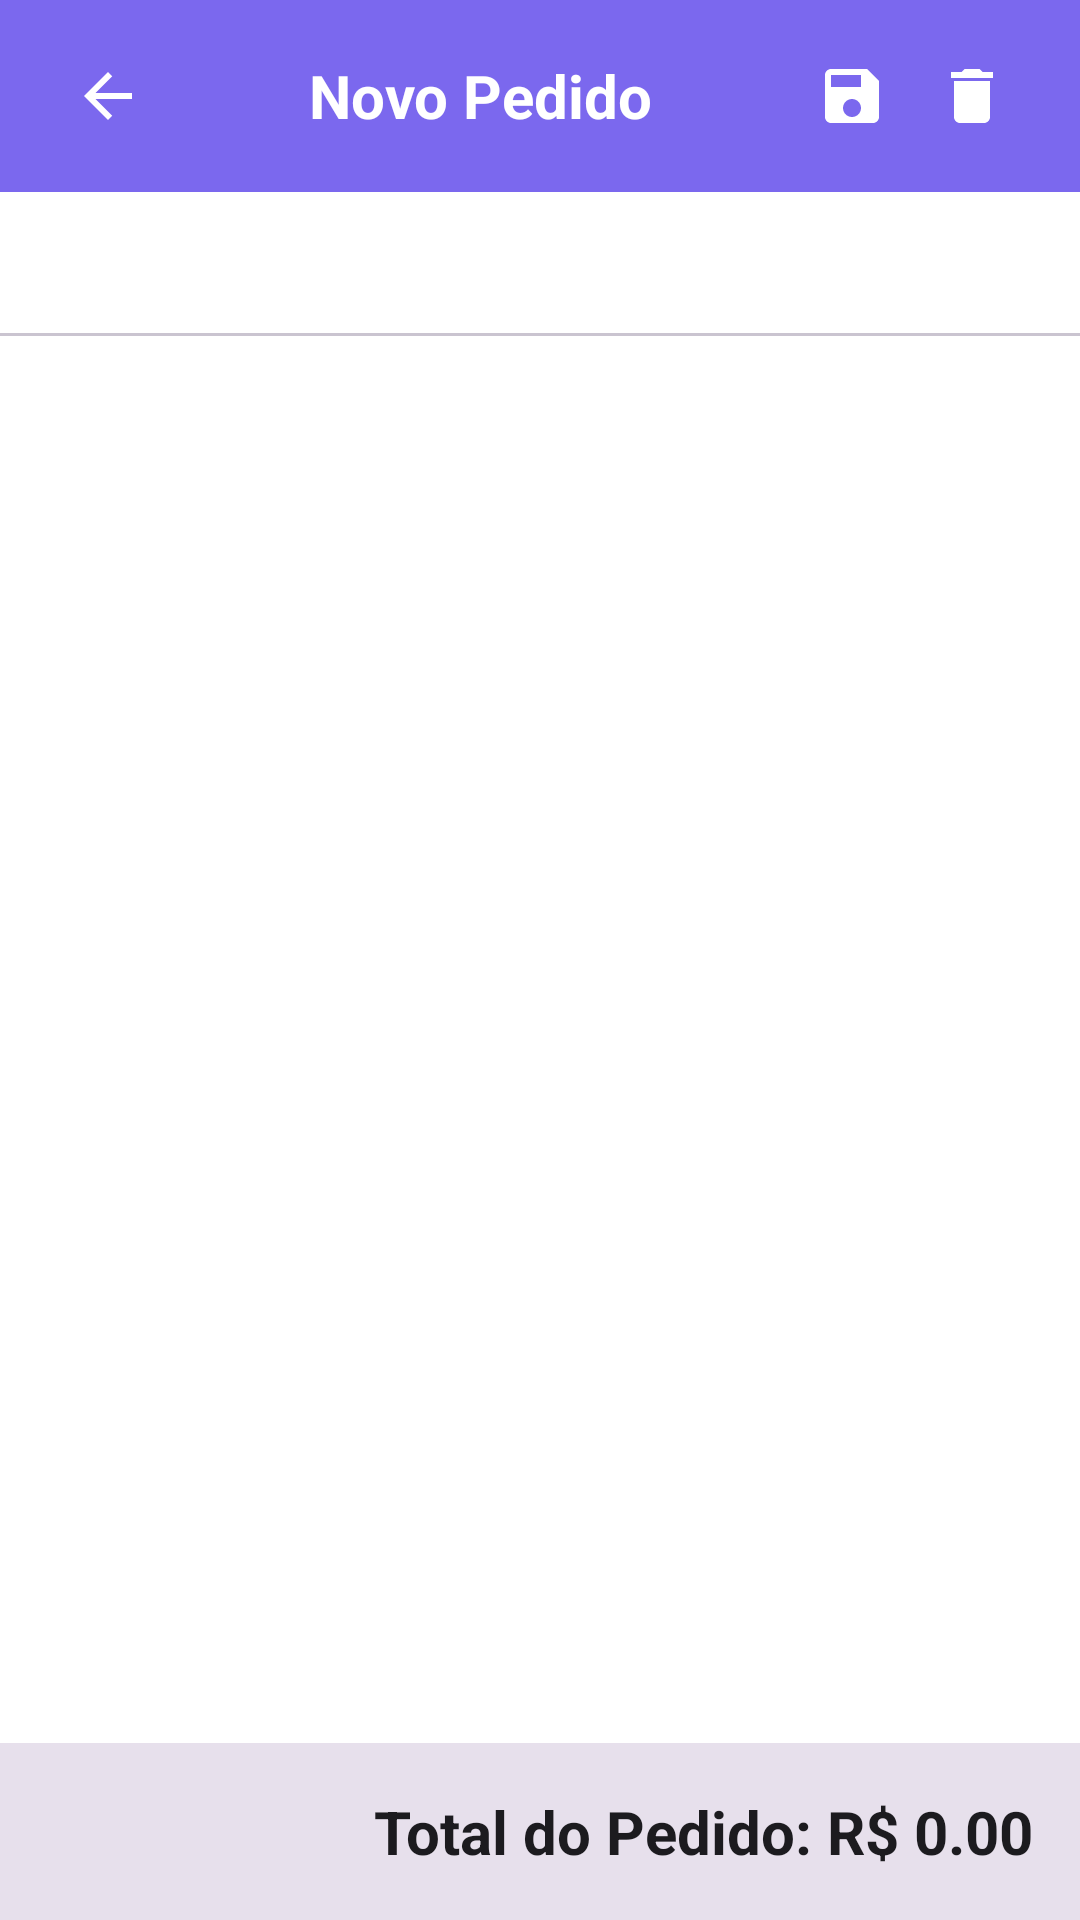

Icons on this 1080*1920 Android screen, each with the point to tap as point (x, y):
Deletar: point (972, 96)
Salvar: point (852, 96)
Voltar: point (108, 96)
